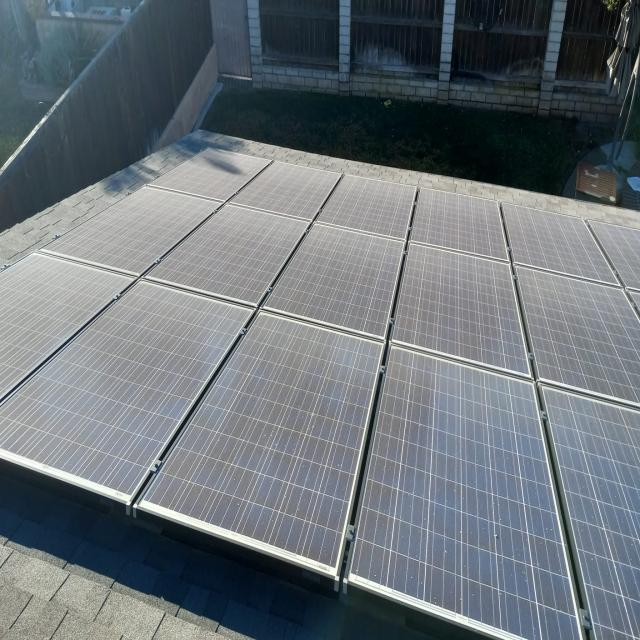dust-solar-panel: (0, 146, 640, 640)
